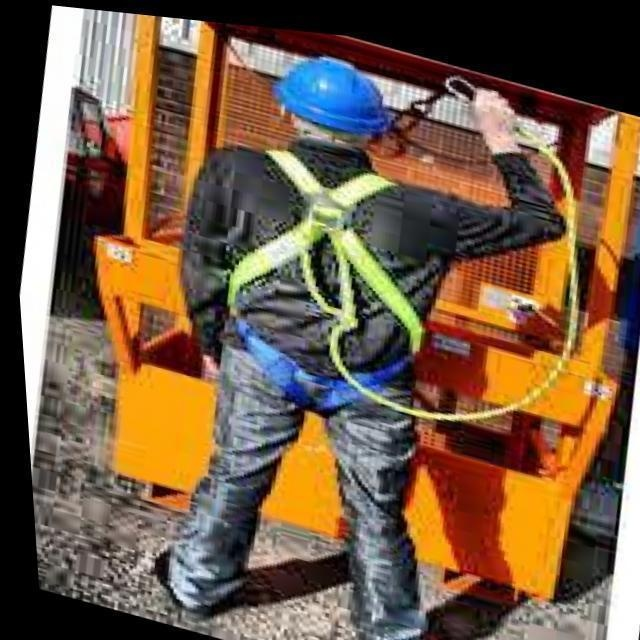Arnes_seguridad: (226, 139, 430, 407)
